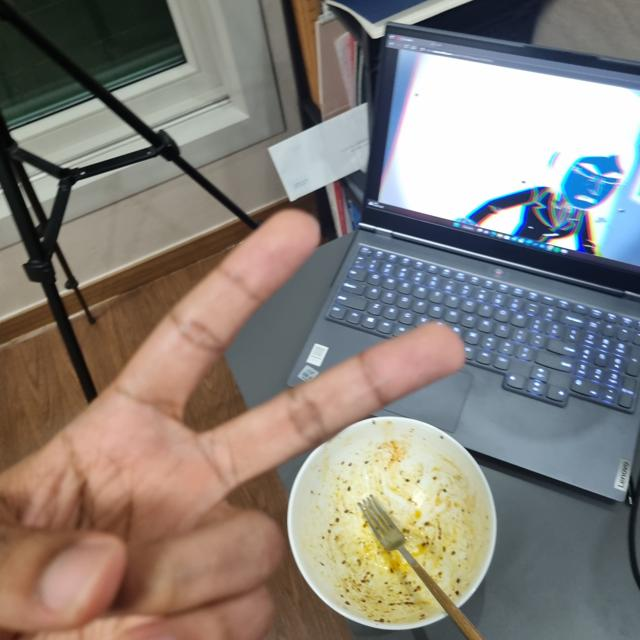Scissors: (0, 212, 458, 639)
